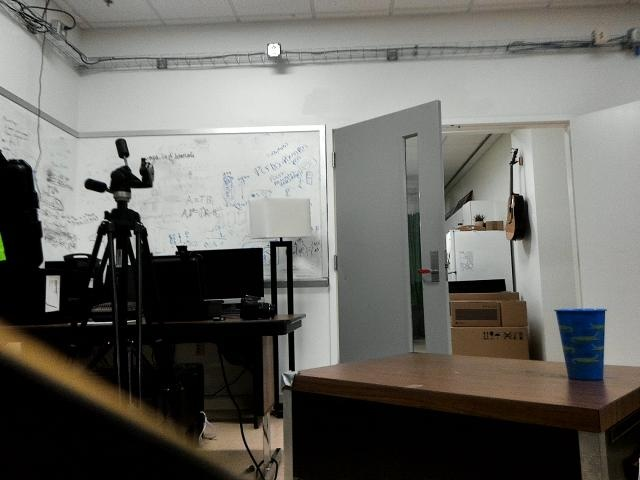water_cup: (551, 305, 612, 388)
